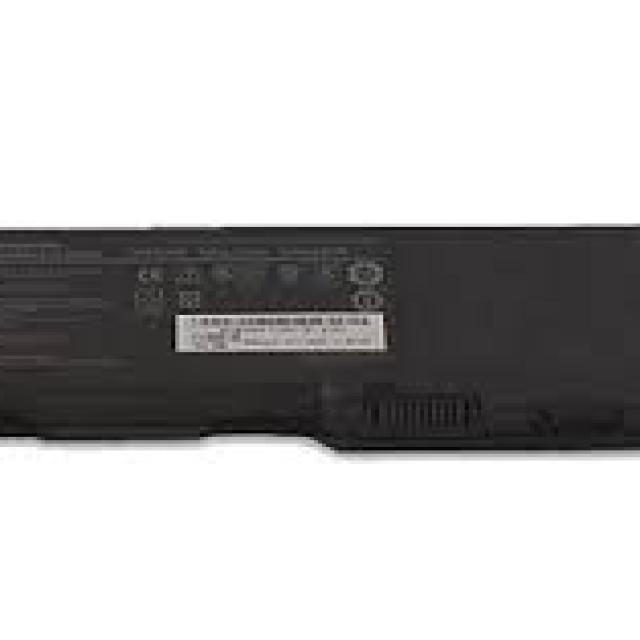organic: (16, 220, 640, 467)
